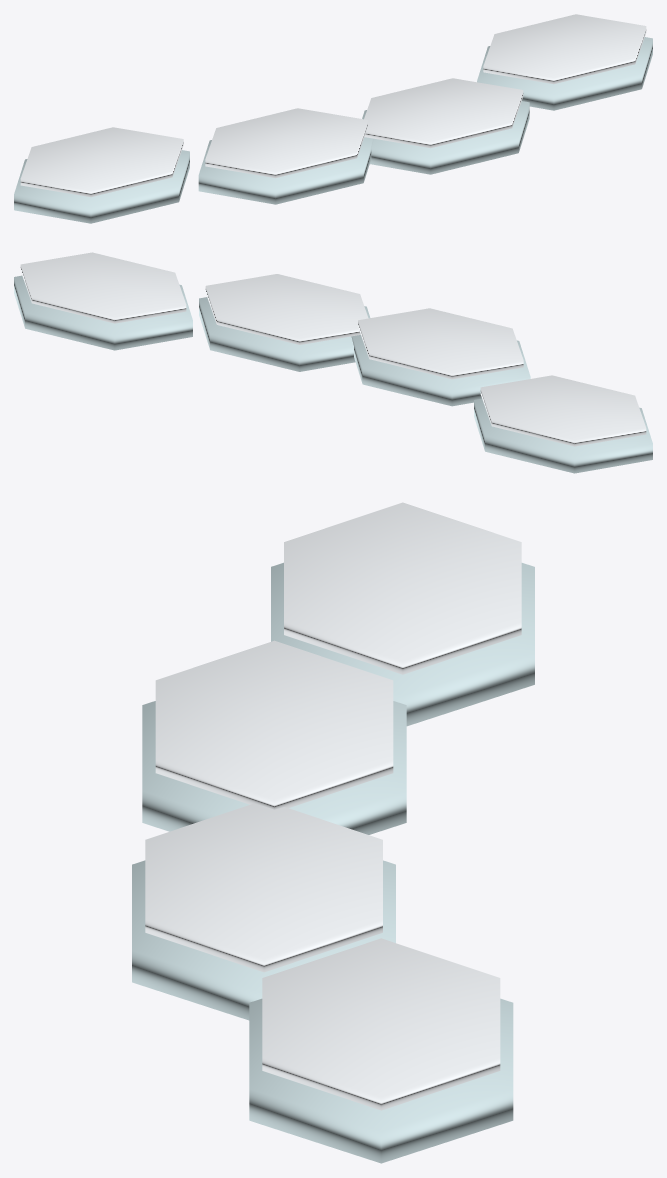
Rendered from ice_floe_low.glb.
The picture shows the model from 3 angles, top to bottom: view 1: azimuth 30°, elevation 25°; view 2: azimuth 150°, elevation 25°; view 3: azimuth 270°, elevation 25°; orthographic projection. The views are drawn at different scales.
Size of the model in its own units: 12.46 by 0.8749 by 3.43.
